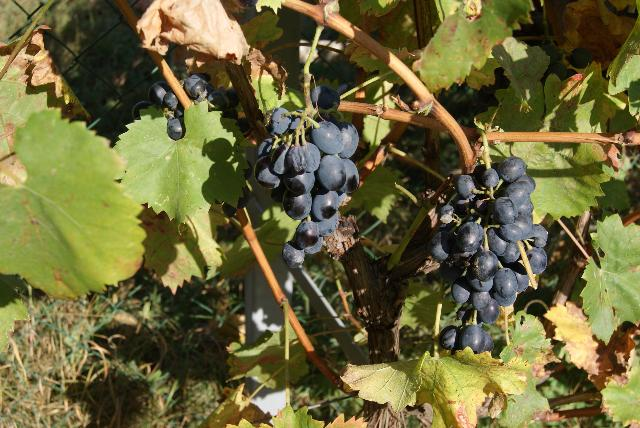grapes: (430, 150, 548, 354), (255, 85, 360, 266)
